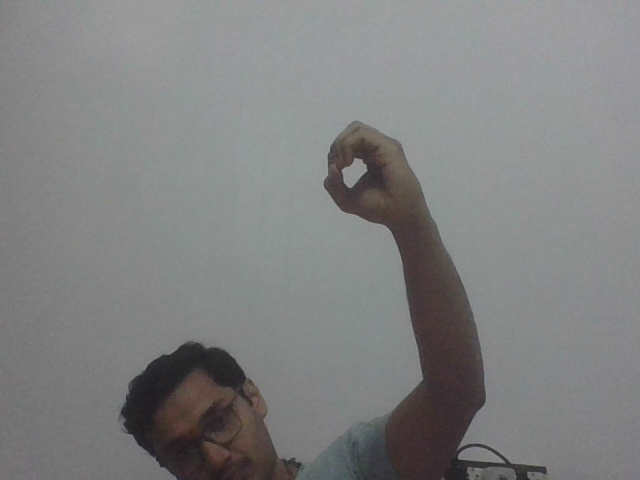O: (313, 110, 428, 232)
